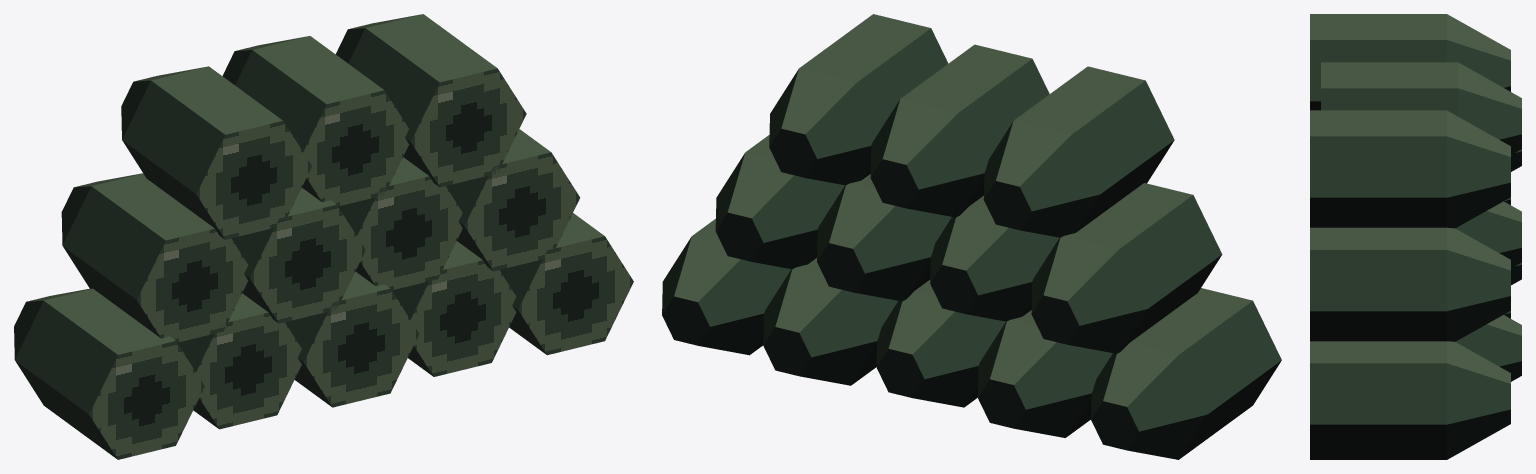
The model's file is fuellung_flaschen_gruen.glb.
The picture shows the model from 3 angles, left to right: view 1: azimuth 30°, elevation 25°; view 2: azimuth 150°, elevation 25°; view 3: azimuth 270°, elevation 25°; orthographic projection. The views are drawn at different scales.
Parts seen in each view (by area): view 1: flaschen_gruen; view 2: flaschen_gruen; view 3: flaschen_gruen.
Part boxes in pixels (x1,y1,x2,y2): flaschen_gruen: (14, 14, 633, 459); flaschen_gruen: (662, 14, 1281, 459); flaschen_gruen: (1310, 14, 1521, 459).
Size of the model in its own units: 0.635 by 0.3329 by 0.232.
1 material, 1 textured.
